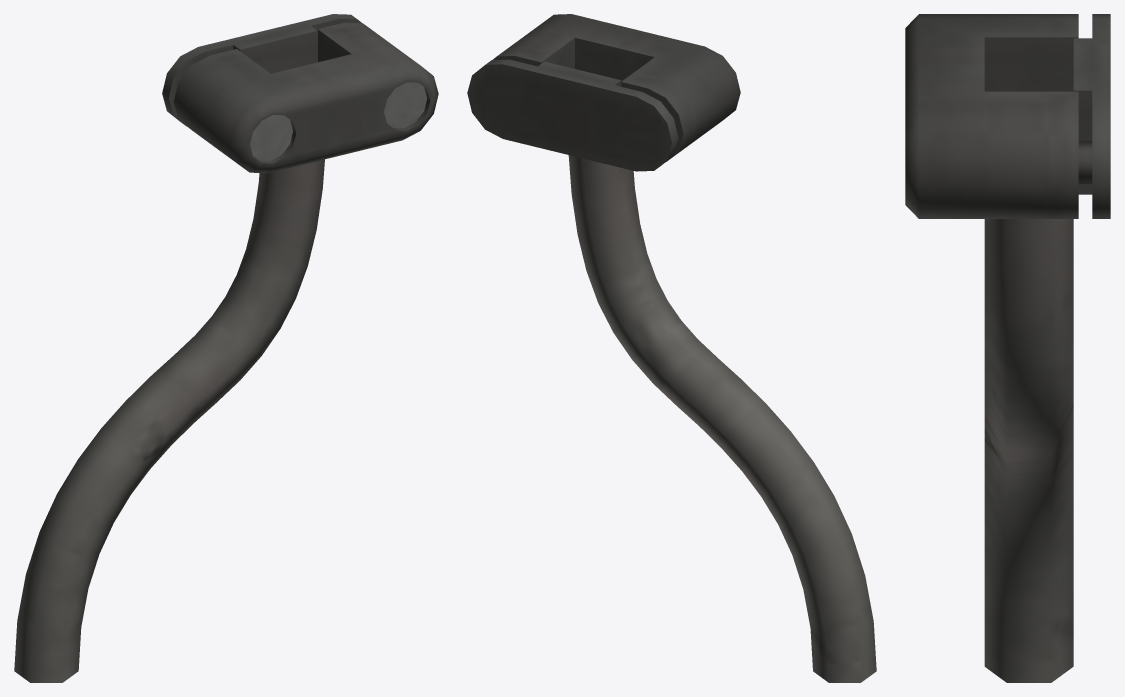
File: cable_scurve_4.gltf
3 renders of one model, left to right at view 1: azimuth 30°, elevation 25°; view 2: azimuth 150°, elevation 25°; view 3: azimuth 270°, elevation 25°, orthographic. The views are drawn at different scales.
Parts seen in each view (by area): view 1: cable_scurve_4; view 2: cable_scurve_4; view 3: cable_scurve_4.
Boxes of the visible parts, left/top/right/bottom form: cable_scurve_4: left=14, top=14, right=438, bottom=682; cable_scurve_4: left=467, top=14, right=876, bottom=682; cable_scurve_4: left=905, top=14, right=1110, bottom=682.
Bounding box in the file's own units: 0.0757 × 0.1073 × 0.0259.
1 material, 1 textured.
